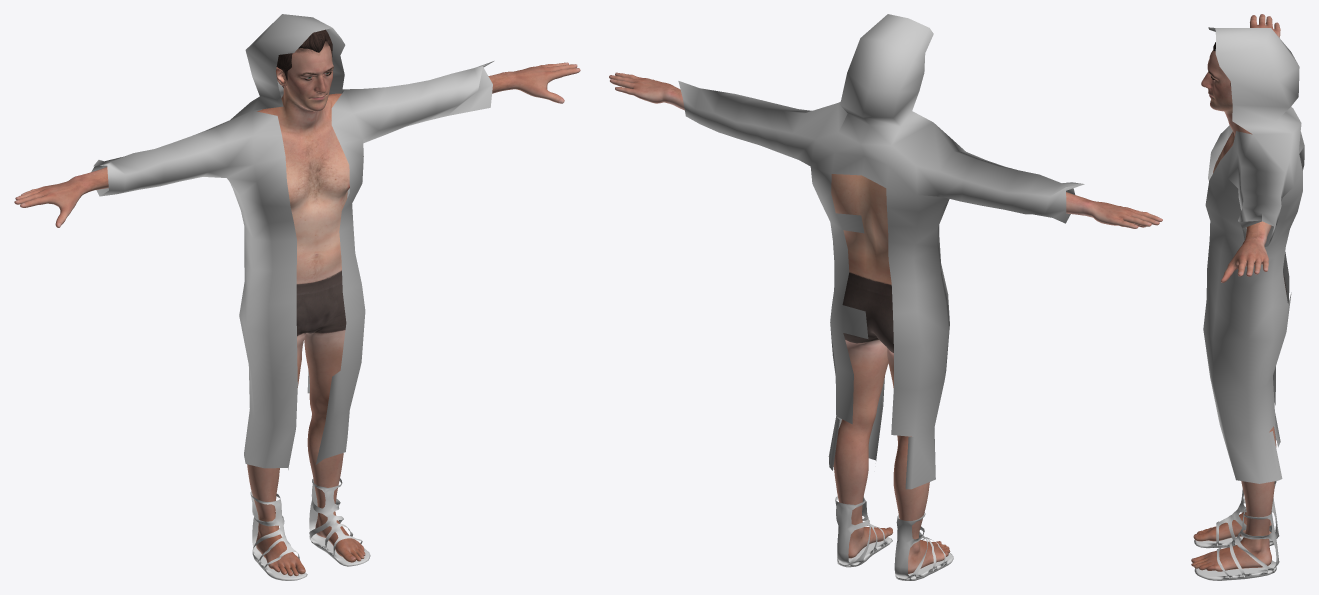
Rendered from r'dercapta'nAcik.fbx.
3 views of the same model, side by side, from view 1: azimuth 30°, elevation 25°; view 2: azimuth 150°, elevation 25°; view 3: azimuth 270°, elevation 25° (orthographic).
Parts seen in each view (by area): view 1: Plane, Body, Cube, Hair; view 2: Plane, Body, Cube; view 3: Plane, Body, Cube.
Part boxes in pixels (x1=…): Plane: x1=91, y1=14, x2=493, y2=469; Body: x1=14, y1=41, x2=580, y2=576; Cube: x1=250, y1=478, x2=370, y2=580; Hair: x1=276, y1=29, x2=332, y2=87; Plane: x1=678, y1=14, x2=1084, y2=489; Body: x1=609, y1=72, x2=1162, y2=573; Cube: x1=835, y1=496, x2=953, y2=580; Plane: x1=1203, y1=27, x2=1304, y2=483; Body: x1=1191, y1=14, x2=1286, y2=571; Cube: x1=1194, y1=481, x2=1279, y2=580.
Bounding box in the file's own units: 587 × 539 × 105.
